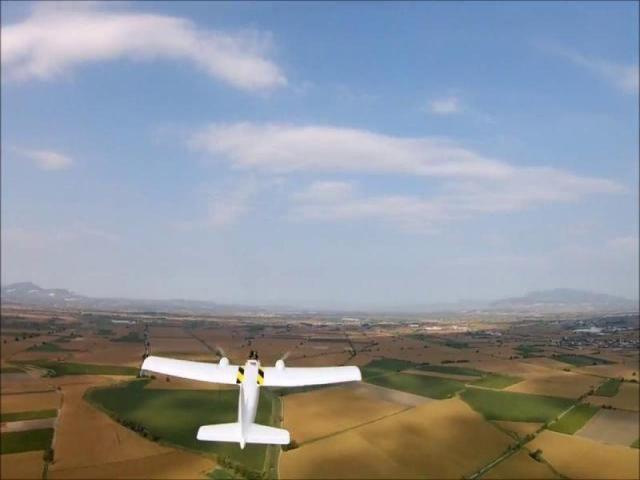hedef: (136, 340, 364, 458)
